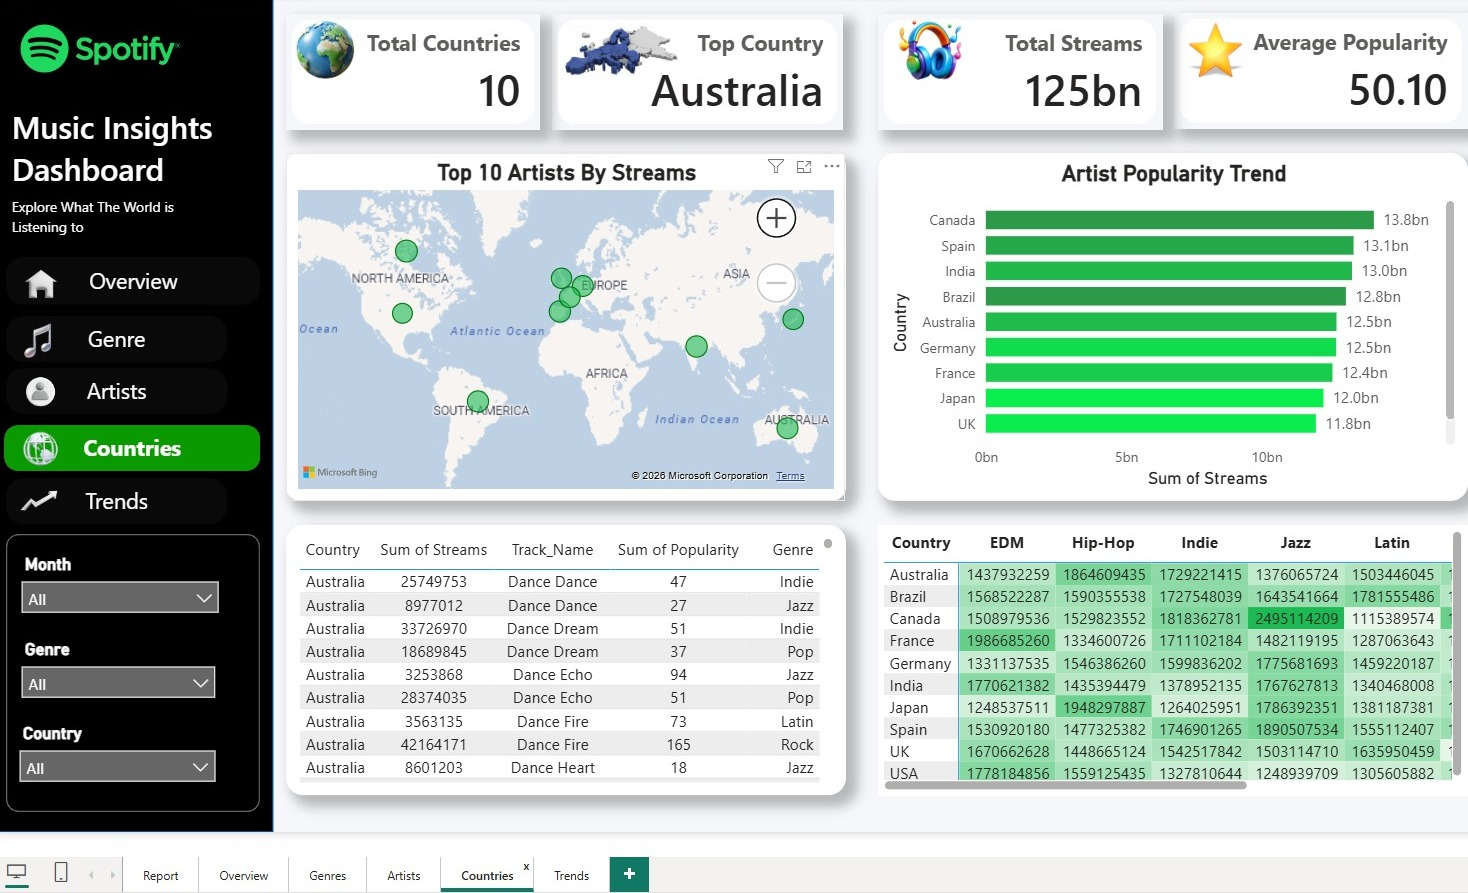

This screenshot's page, from the dashboard's own definition file:
{"tool":"powerbi","page":{"name":"Countries","canvas":[1280,720],"ordinal":4},"visuals":[{"type":"shape","box":[202.5,135,616.2,300],"z":0},{"type":"shape","box":[0,0,181,720.2],"z":1000},{"type":"image","box":[0,0,181,114.3],"z":2000},{"type":"textbox","box":[9.5,89.3,152.4,89.3],"z":3000},{"type":"textbox","box":[9.5,166.7,152.4,48.8],"z":4000},{"type":"cardVisual","fields":{"Data":["Spotify_Data.Total Countries"]},"box":[203.6,14.3,264.8,100.2],"z":5000},{"type":"cardVisual","fields":{"Data":["Spotify_Data.Average Popularity"]},"box":[1016.8,13.7,253.9,100.2],"z":6000},{"type":"cardVisual","fields":{"Data":["Spotify_Data.Total Streams"]},"box":[761.9,14.3,245.6,100.2],"z":7000},{"type":"map","title":"Top 10 Artists By Streams","fields":{"Size":["Sum(Spotify_Data.Streams)"],"Category":["Spotify_Data.Country"]},"box":[203,134.5,529.5,299.6],"z":8000},{"type":"clusteredBarChart","title":"Artist Popularity Trend","fields":{"Category":["Spotify_Data.Country"],"Y":["Sum(Spotify_Data.Streams)"]},"box":[761.8,134.5,508.7,299.6],"z":9000},{"type":"tableEx","fields":{"Values":["Spotify_Data.Country","Sum(Spotify_Data.Streams)","Spotify_Data.Track_Name","Sum(Spotify_Data.Popularity)","Spotify_Data.Genre"]},"box":[202,454.9,531.3,233.8],"z":10000},{"type":"actionButton","box":[10,225,152.5,40],"z":11000},{"type":"actionButton","box":[10,275,152.5,40],"z":12000},{"type":"actionButton","box":[10,320,152.5,40],"z":13000},{"type":"actionButton","box":[7.5,368.8,156.2,40],"z":14000},{"type":"actionButton","box":[10,415,152.5,40],"z":15000},{"type":"cardVisual","fields":{"Data":["Spotify_Data.Top Country"]},"box":[480.4,14.3,251.1,100.2],"z":16000},{"type":"actionButton","box":[0,0,100,40],"z":17000},{"type":"pivotTable","fields":{"Rows":["Spotify_Data.Country"],"Columns":["Spotify_Data.Genre"],"Values":["Sum(Spotify_Data.Streams)"]},"box":[762,455,509,234],"z":18000}]}

Visuals, with their boxes on the page's 1280x720 design canvas (x1, y1, x2, y2). These are canvas units, not pixel positions in the 1468x893 screenshot, which may show the page scaled, cropped or inside an application window:
shape: l=202, t=135, r=819, b=435
shape: l=0, t=0, r=181, b=720
image: l=0, t=0, r=181, b=114
textbox: l=10, t=89, r=162, b=179
textbox: l=10, t=167, r=162, b=216
cardVisual - Spotify_Data.Total Countries: l=204, t=14, r=468, b=114
cardVisual - Spotify_Data.Average Popularity: l=1017, t=14, r=1271, b=114
cardVisual - Spotify_Data.Total Streams: l=762, t=14, r=1008, b=114
"Top 10 Artists By Streams" map: l=203, t=134, r=732, b=434
"Artist Popularity Trend" clusteredBarChart: l=762, t=134, r=1270, b=434
tableEx - Spotify_Data.Country x Sum(Spotify_Data.Streams): l=202, t=455, r=733, b=689
actionButton: l=10, t=225, r=162, b=265
actionButton: l=10, t=275, r=162, b=315
actionButton: l=10, t=320, r=162, b=360
actionButton: l=8, t=369, r=164, b=409
actionButton: l=10, t=415, r=162, b=455
cardVisual - Spotify_Data.Top Country: l=480, t=14, r=732, b=114
actionButton: l=0, t=0, r=100, b=40
pivotTable - Spotify_Data.Country x Spotify_Data.Genre: l=762, t=455, r=1271, b=689
